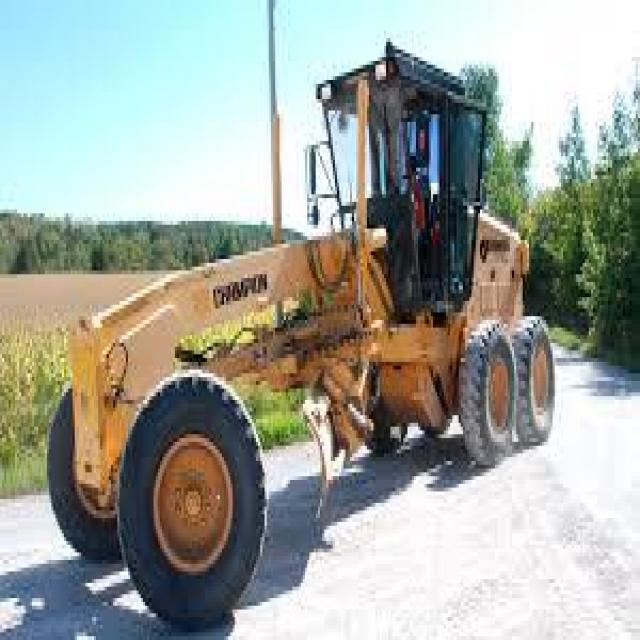Grader: (41, 31, 595, 617)
